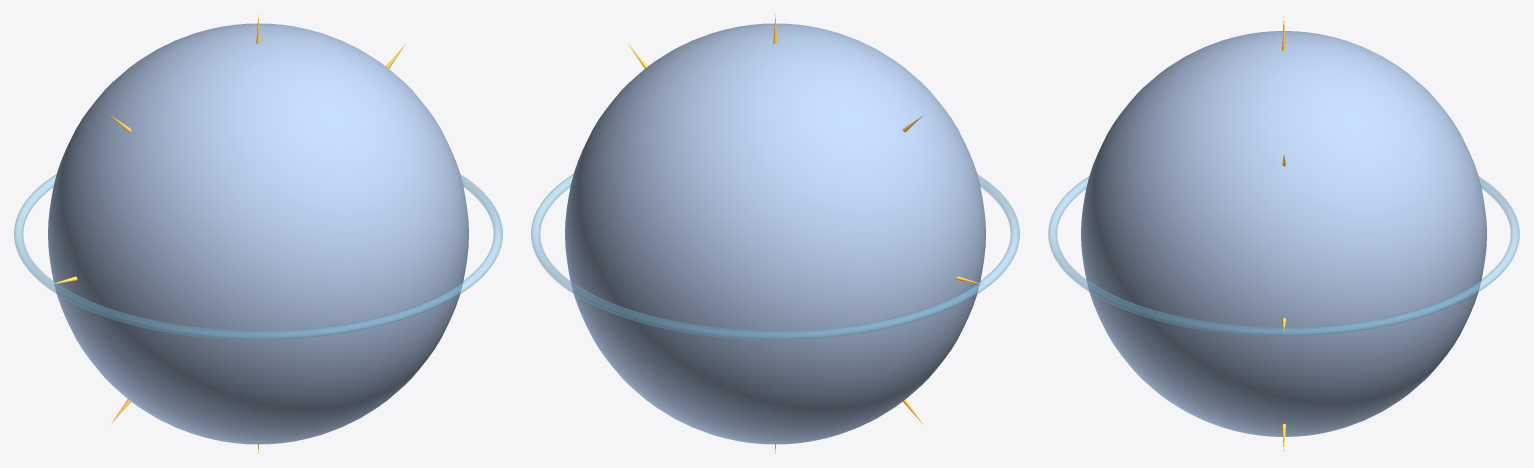
The model's file is space-p1-main-sequence-star.glb.
3 renders of one model, left to right at view 1: azimuth 30°, elevation 25°; view 2: azimuth 150°, elevation 25°; view 3: azimuth 270°, elevation 25°, orthographic. The views are drawn at different scales.
Parts seen in each view (by area): view 1: transparent-radiation-zone-shell, balanced-hydrostatic-equilibrium-band; view 2: transparent-radiation-zone-shell, balanced-hydrostatic-equilibrium-band; view 3: transparent-radiation-zone-shell, balanced-hydrostatic-equilibrium-band.
Part boxes in pixels (left/top/right/bottom): transparent-radiation-zone-shell: left=48, top=23, right=468, bottom=444; balanced-hydrostatic-equilibrium-band: left=14, top=174, right=502, bottom=339; transparent-radiation-zone-shell: left=565, top=23, right=985, bottom=444; balanced-hydrostatic-equilibrium-band: left=531, top=174, right=1019, bottom=339; transparent-radiation-zone-shell: left=1081, top=31, right=1486, bottom=436; balanced-hydrostatic-equilibrium-band: left=1048, top=176, right=1519, bottom=336.
Size of what is drawn, in the model's own units: 1.67 by 1.66 by 1.67.
